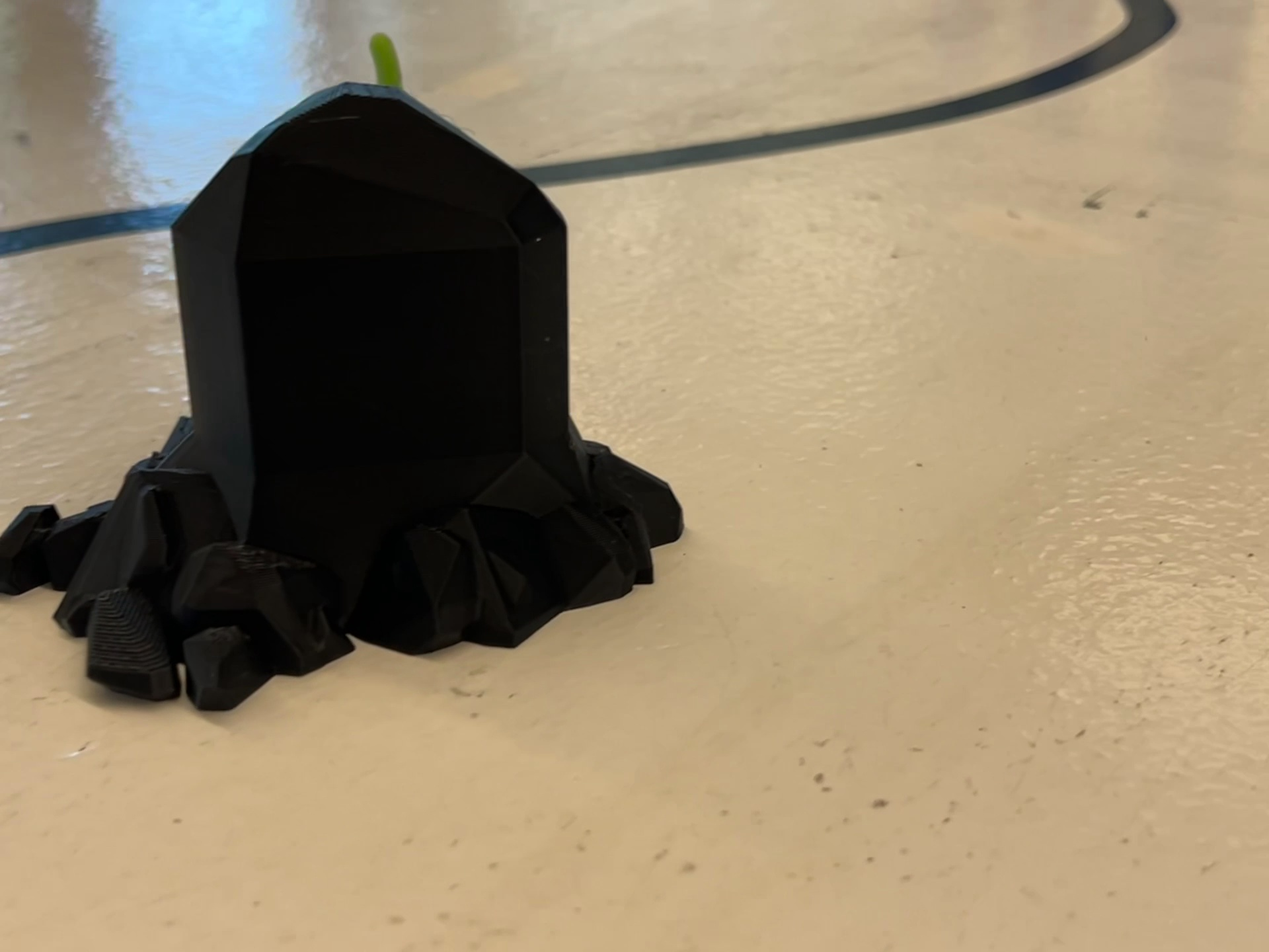teletubby: (369, 33, 402, 87)
